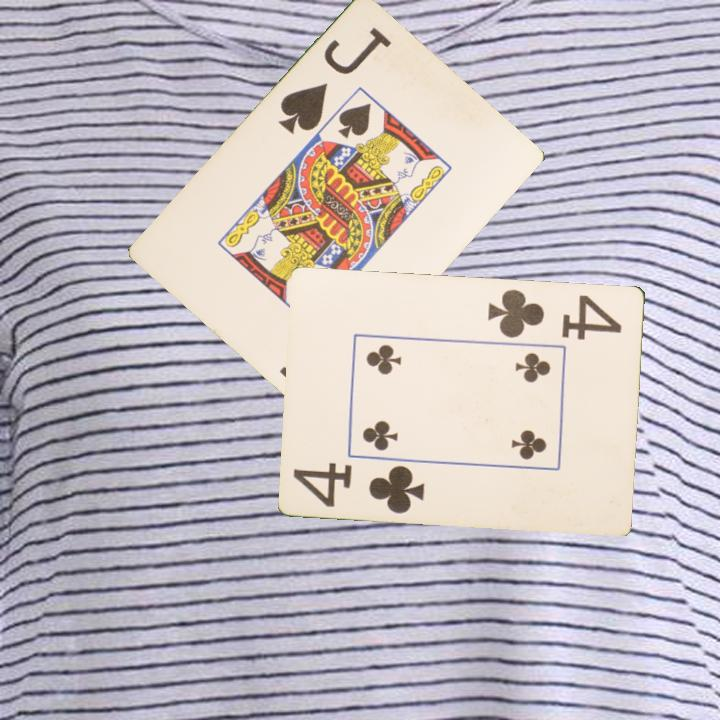4c: (485, 285, 626, 342), (290, 459, 428, 516)
Js: (274, 24, 395, 139)
